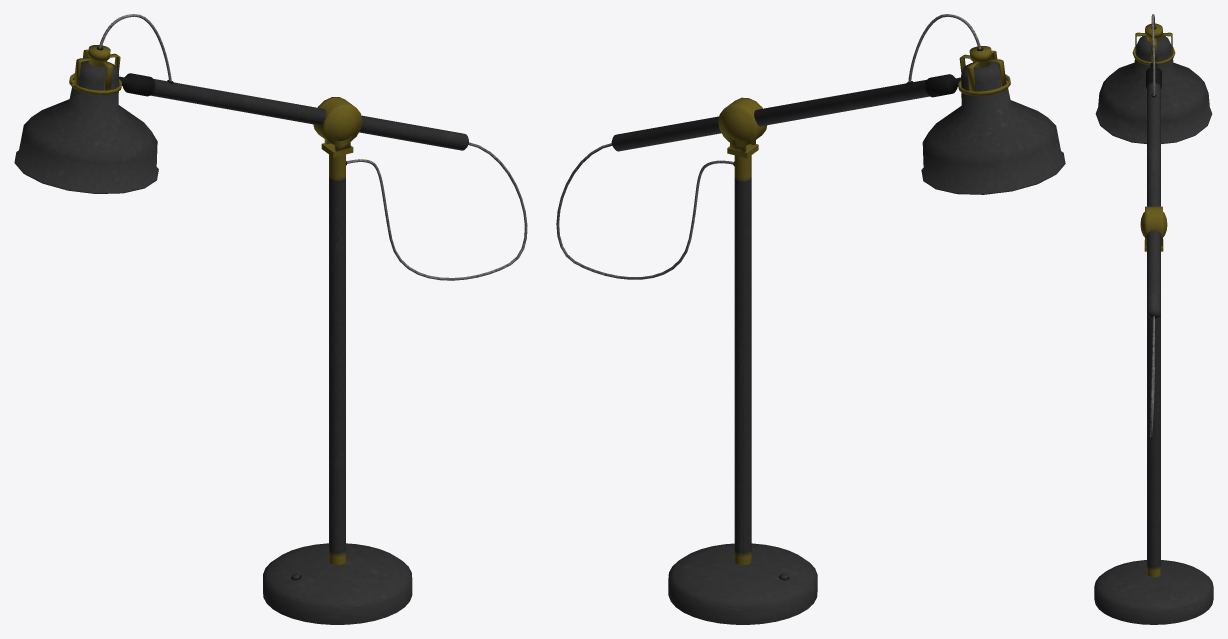
3 views of the same model, side by side, from view 1: azimuth 30°, elevation 25°; view 2: azimuth 150°, elevation 25°; view 3: azimuth 270°, elevation 25° (orthographic). The views are drawn at different scales.
Parts seen in each view (by area): view 1: Mesh_0.001; view 2: Mesh_0.001; view 3: Mesh_0.001.
Boxes of the visible parts, x1,y1,x2,y2 form: Mesh_0.001: [14, 14, 527, 624]; Mesh_0.001: [556, 14, 1065, 624]; Mesh_0.001: [1094, 14, 1213, 624].
Bounding box in the file's own units: 0.8106 × 0.9724 × 0.2092.
1 material, 1 textured.
